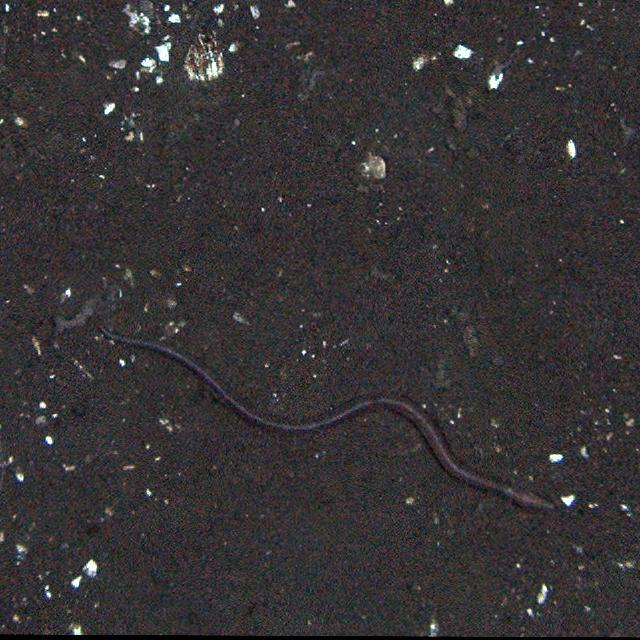eel: (100, 325, 557, 514)
